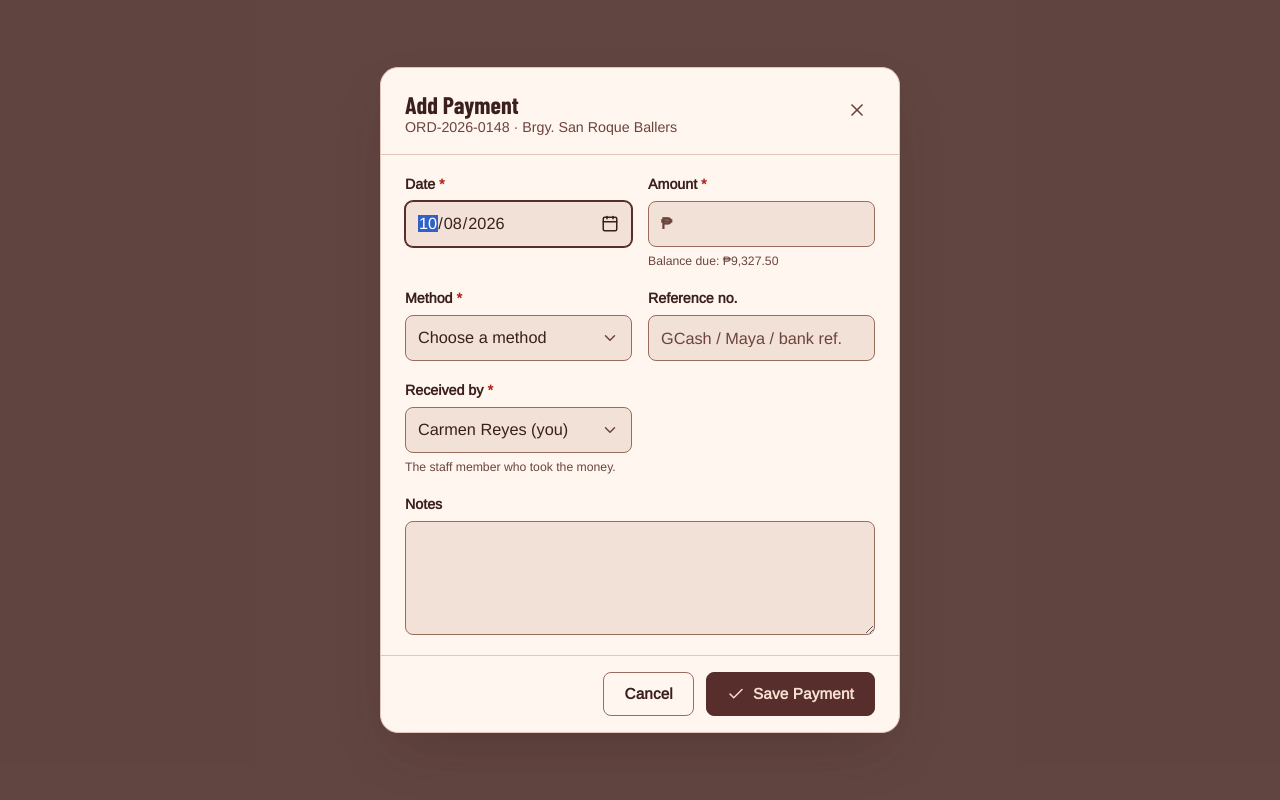
Test: add mode checks before any request (OR-3) › shows "Choose a payment method." when only the method is missing, focuses it and sends nothing
Type "2000" into the field labelled "Amount *" at (773, 224), box [672, 202, 874, 246]
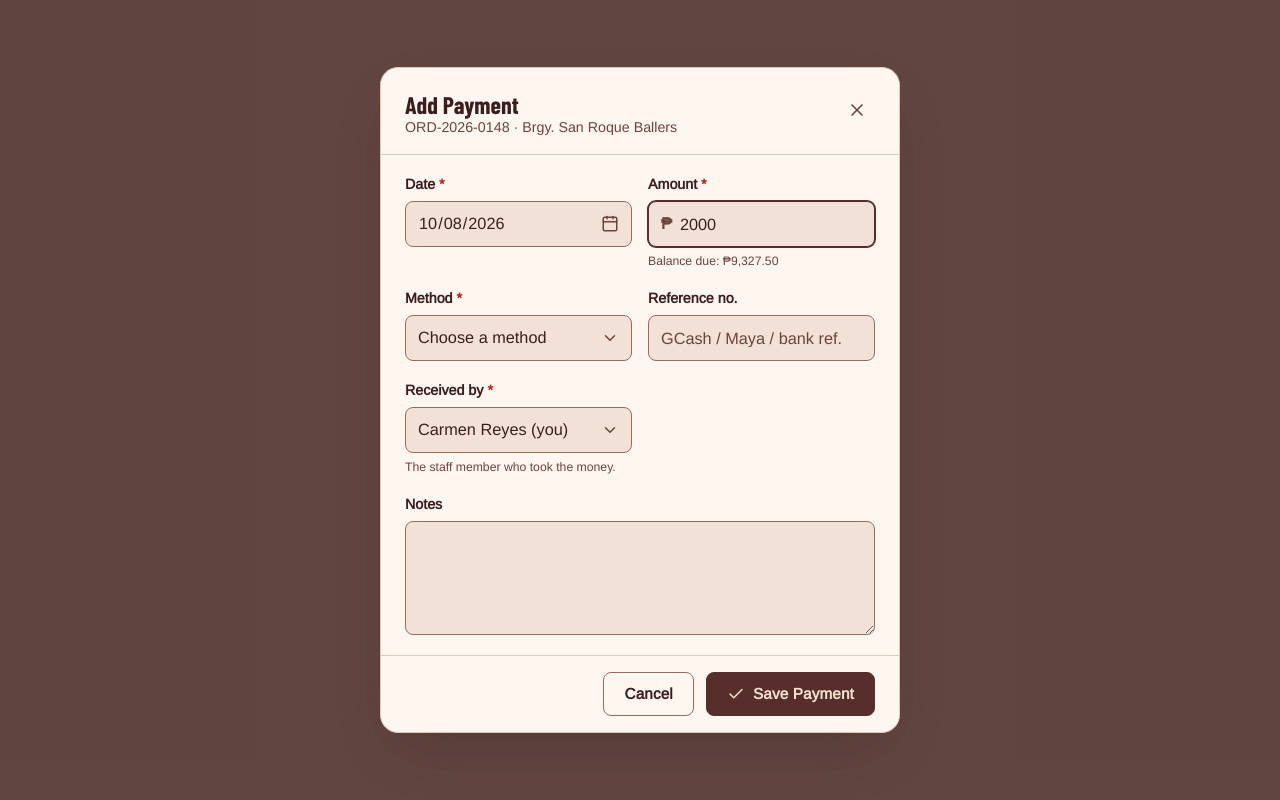
Click the button "Save Payment" at (790, 694), box [706, 672, 875, 716]
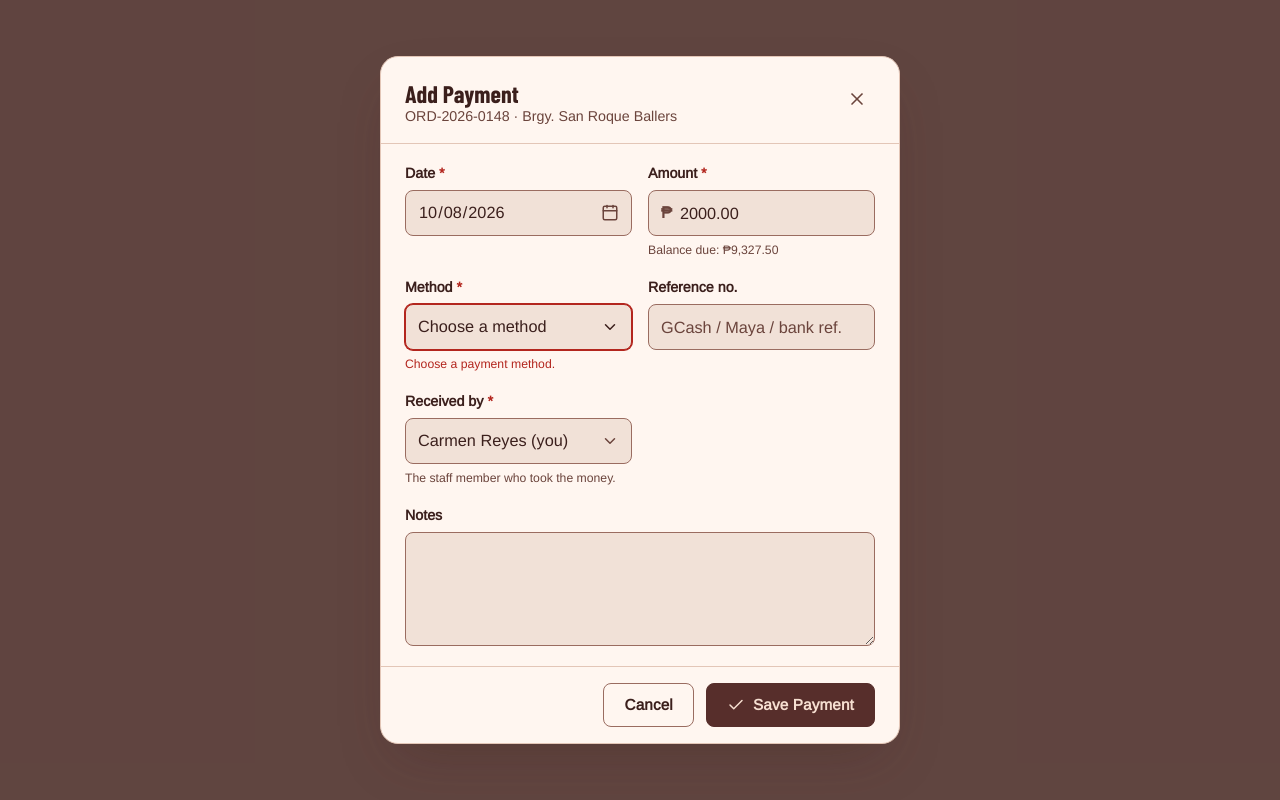
Result: the text "Choose a payment method." is shown at [405, 357, 555, 371]
